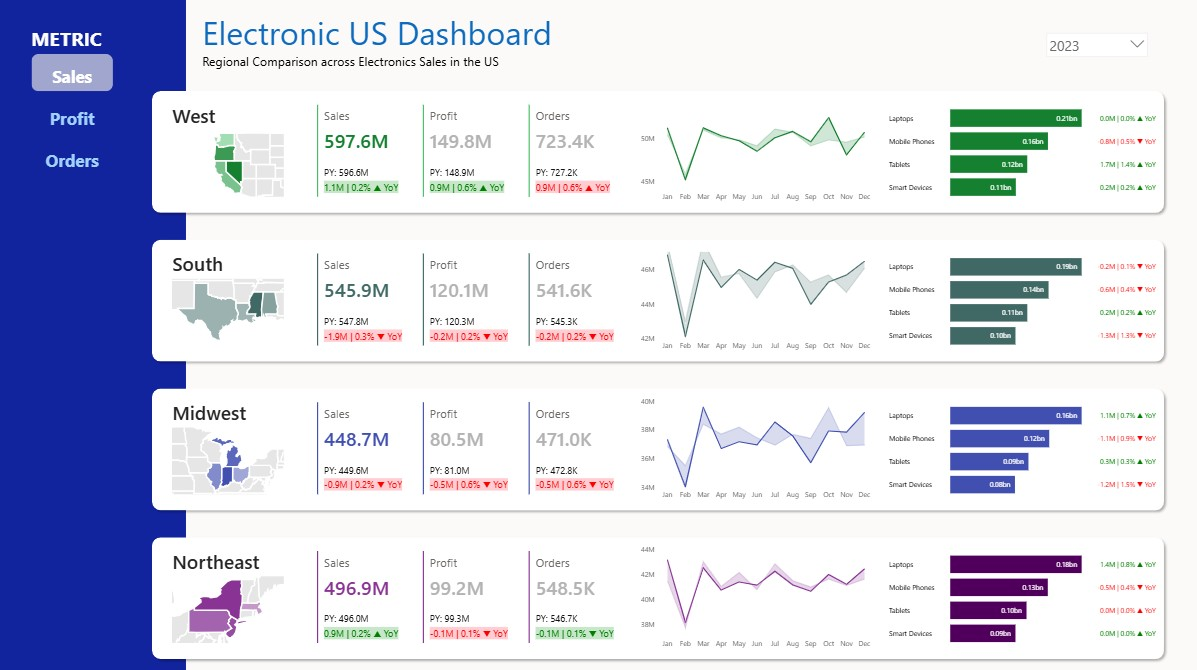

What the dashboard file says about the page in this screenshot:
{"tool":"powerbi","page":{"name":"Page 1","canvas":[2100,1180],"ordinal":0},"visuals":[{"type":"shape","box":[0,0,326.9,1179.3],"z":0},{"type":"shape","box":[258.3,154,1778,230],"z":1000},{"type":"advancedSlicerVisual","title":"METRIC","fields":{"Values":["Metric_Sel.Metric"]},"box":[48.4,50.9,162.2,271.2],"z":2000},{"type":"shape","box":[258.3,412.7,1778,230],"z":3000},{"type":"shape","box":[258.3,671.3,1778,230],"z":4000},{"type":"shape","box":[258.3,930,1778,230],"z":5000},{"type":"shapeMap","title":"West","fields":{"Value":["_Measures._Selected Measure"],"Category":["Dataset.State"]},"box":[298,182,204.3,170],"z":6000},{"type":"slicer","fields":{"Values":["Date.Year"]},"box":[1814,52,196,80],"z":7000},{"type":"shapeMap","title":"South","fields":{"Value":["_Measures._Selected Measure"],"Category":["Dataset.State"]},"box":[298,440.7,204.3,170],"z":8000},{"type":"shapeMap","title":"Midwest","fields":{"Value":["_Measures._Selected Measure"],"Category":["Dataset.State"]},"box":[298,699.3,204.3,170],"z":9000},{"type":"shapeMap","title":"Northeast","fields":{"Value":["_Measures._Selected Measure"],"Category":["Dataset.State"]},"box":[298,958,204.3,170],"z":10000},{"type":"lineChart","fields":{"Category":["Date.Month"],"Y":["_Measures._Selected Measure"]},"box":[1112.3,172,411.4,194.3],"z":11000},{"type":"lineChart","fields":{"Category":["Date.Month"],"Y":["_Measures._Selected Measure"]},"box":[1112.3,430.7,411.4,194.3],"z":12000},{"type":"lineChart","fields":{"Category":["Date.Month"],"Y":["_Measures._Selected Measure"]},"box":[1112.3,689.3,411.4,194.3],"z":13000},{"type":"lineChart","fields":{"Category":["Date.Month"],"Y":["_Measures._Selected Measure"]},"box":[1112.3,948,411.4,194.3],"z":14000},{"type":"cardVisual","fields":{"Data":["_Measures.Sales (Current Year)","_Measures.Profit (Current Year)","_Measures.Orders (Current Year)"]},"box":[550.3,182,554,170],"z":15000},{"type":"cardVisual","fields":{"Data":["_Measures.Sales (Current Year)","_Measures.Profit (Current Year)","_Measures.Orders (Current Year)"]},"box":[550.3,440.7,554,170],"z":16000},{"type":"cardVisual","fields":{"Data":["_Measures.Sales (Current Year)","_Measures.Profit (Current Year)","_Measures.Orders (Current Year)"]},"box":[550.3,699.3,554,170],"z":17000},{"type":"cardVisual","fields":{"Data":["_Measures.Sales (Current Year)","_Measures.Profit (Current Year)","_Measures.Orders (Current Year)"]},"box":[550.3,958,554,170],"z":18000},{"type":"barChart","fields":{"Y":["_Measures._Base","_Measures._Selected Measure","_Measures._End"],"Category":["Dataset.Product"]},"box":[1536.6,182,490,170],"z":19000},{"type":"barChart","fields":{"Y":["_Measures._Base","_Measures._Selected Measure","_Measures._End"],"Category":["Dataset.Product"]},"box":[1536.6,440.7,490,170],"z":20000},{"type":"barChart","fields":{"Y":["_Measures._Base","_Measures._Selected Measure","_Measures._End"],"Category":["Dataset.Product"]},"box":[1536.6,699.3,490,170],"z":21000},{"type":"barChart","fields":{"Y":["_Measures._Base","_Measures._Selected Measure","_Measures._End"],"Category":["Dataset.Product"]},"box":[1536.6,958,490,170],"z":22000},{"type":"textbox","box":[350,17.5,780,137.5],"z":23000}]}

Visuals, with their boxes in screenshot pixels (x1, y1, x2, y2), scaled from the page's 2100x1180 canvas onto the 1197x670 screenshot:
shape: select_region(0, 0, 186, 669)
shape: select_region(147, 87, 1161, 218)
"METRIC" advancedSlicerVisual: select_region(28, 29, 120, 183)
shape: select_region(147, 234, 1161, 365)
shape: select_region(147, 381, 1161, 512)
shape: select_region(147, 528, 1161, 659)
"West" shapeMap: select_region(170, 103, 286, 200)
slicer - Date.Year: select_region(1034, 30, 1146, 75)
"South" shapeMap: select_region(170, 250, 286, 347)
"Midwest" shapeMap: select_region(170, 397, 286, 494)
"Northeast" shapeMap: select_region(170, 544, 286, 640)
lineChart - Date.Month x _Measures._Selected Measure: select_region(634, 98, 869, 208)
lineChart - Date.Month x _Measures._Selected Measure: select_region(634, 245, 869, 355)
lineChart - Date.Month x _Measures._Selected Measure: select_region(634, 391, 869, 502)
lineChart - Date.Month x _Measures._Selected Measure: select_region(634, 538, 869, 649)
cardVisual - _Measures.Sales (Current Year) x _Measures.Profit (Current Year): select_region(314, 103, 629, 200)
cardVisual - _Measures.Sales (Current Year) x _Measures.Profit (Current Year): select_region(314, 250, 629, 347)
cardVisual - _Measures.Sales (Current Year) x _Measures.Profit (Current Year): select_region(314, 397, 629, 494)
cardVisual - _Measures.Sales (Current Year) x _Measures.Profit (Current Year): select_region(314, 544, 629, 640)
barChart - _Measures._Base x _Measures._Selected Measure: select_region(876, 103, 1155, 200)
barChart - _Measures._Base x _Measures._Selected Measure: select_region(876, 250, 1155, 347)
barChart - _Measures._Base x _Measures._Selected Measure: select_region(876, 397, 1155, 494)
barChart - _Measures._Base x _Measures._Selected Measure: select_region(876, 544, 1155, 640)
textbox: select_region(199, 10, 644, 88)
